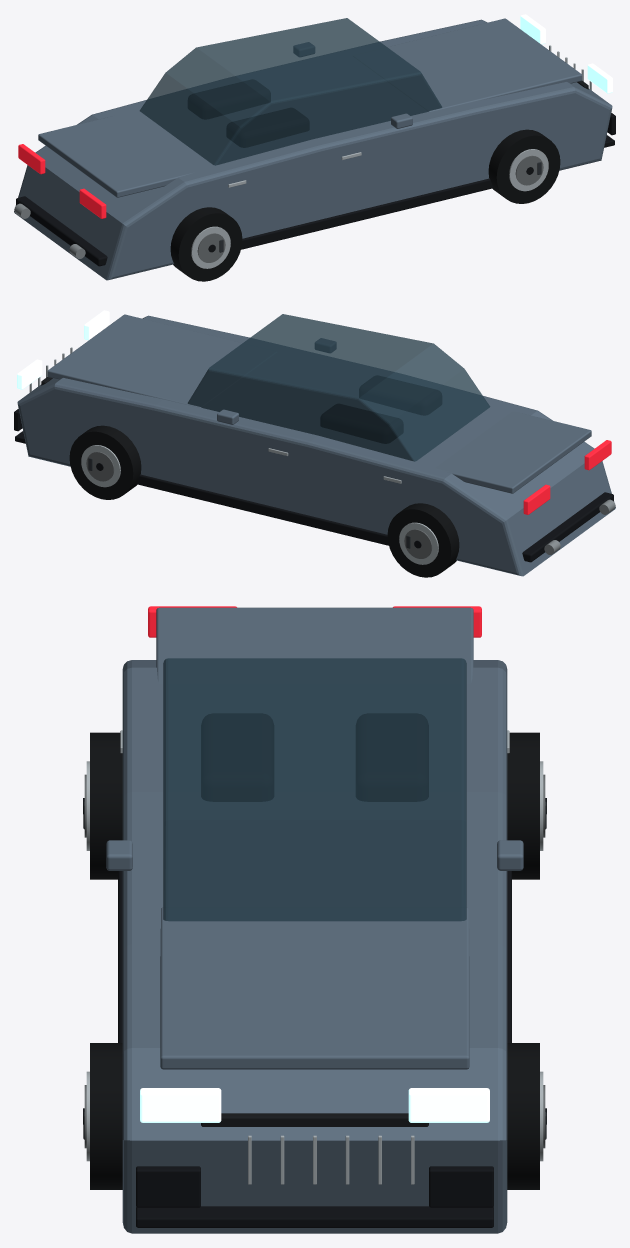
Rendered from rr_phantom_drophead_coupe.glb.
3 renders of one model, top to bottom at view 1: azimuth 30°, elevation 25°; view 2: azimuth 150°, elevation 25°; view 3: azimuth 270°, elevation 25°, orthographic. The views are drawn at different scales.
Visible parts, largest first — view 1: sculpted_body, glasshouse, hood_center, rear_deck, rear_right_wheel_tire, front_right_wheel_tire, side_skirt_1, seat_-1, seat_1, rear_diffuser, rear_right_wheel_rim, front_right_wheel_rim (+6 smaller); view 2: sculpted_body, glasshouse, hood_center, rear_deck, rear_left_wheel_tire, front_left_wheel_tire, side_skirt_-1, seat_1, seat_-1, rear_diffuser, rear_left_wheel_rim, front_left_wheel_rim (+6 smaller); view 3: sculpted_body, glasshouse, hood_center, rear_deck, front_splitter, seat_-1, seat_1, front_left_wheel_tire, front_right_wheel_tire, rear_left_wheel_tire, rear_right_wheel_tire, headlight_left (+6 smaller).
Boxes of the visible parts, left/top/right/bottom form: sculpted_body: left=14, top=19, right=612, bottom=280; glasshouse: left=139, top=18, right=442, bottom=165; hood_center: left=353, top=18, right=582, bottom=111; rear_deck: left=38, top=115, right=194, bottom=197; rear_right_wheel_tire: left=170, top=207, right=242, bottom=281; front_right_wheel_tire: left=488, top=129, right=560, bottom=203; side_skirt_1: left=241, top=178, right=493, bottom=249; seat_-1: left=188, top=80, right=270, bottom=118; seat_1: left=227, top=108, right=308, bottom=147; rear_diffuser: left=16, top=196, right=107, bottom=266; rear_right_wheel_rim: left=191, top=226, right=230, bottom=268; front_right_wheel_rim: left=509, top=149, right=548, bottom=191; sculpted_body: left=17, top=315, right=615, bottom=576; glasshouse: left=187, top=314, right=490, bottom=461; hood_center: left=47, top=314, right=276, bottom=407; rear_deck: left=435, top=411, right=591, bottom=493; rear_left_wheel_tire: left=387, top=503, right=459, bottom=577; front_left_wheel_tire: left=69, top=425, right=141, bottom=499; side_skirt_-1: left=136, top=474, right=388, bottom=545; seat_1: left=359, top=376, right=441, bottom=414; seat_-1: left=321, top=404, right=402, bottom=443; rear_diffuser: left=522, top=492, right=613, bottom=562; rear_left_wheel_rim: left=399, top=522, right=438, bottom=564; front_left_wheel_rim: left=81, top=445, right=120, bottom=487; sculpted_body: left=122, top=660, right=507, bottom=1233; glasshouse: left=163, top=658, right=466, bottom=921; hood_center: left=160, top=907, right=469, bottom=1069; rear_deck: left=156, top=607, right=473, bottom=683; front_splitter: left=136, top=1206, right=493, bottom=1227; seat_-1: left=356, top=714, right=428, bottom=801; seat_1: left=201, top=714, right=273, bottom=801; front_left_wheel_tire: left=507, top=1043, right=539, bottom=1189; front_right_wheel_tire: left=90, top=1043, right=122, bottom=1189; rear_left_wheel_tire: left=507, top=732, right=539, bottom=879; rear_right_wheel_tire: left=90, top=732, right=122, bottom=879; headlight_left: left=408, top=1088, right=489, bottom=1122.
Size of the model in its own units: 5.99 by 1.57 by 2.27.
